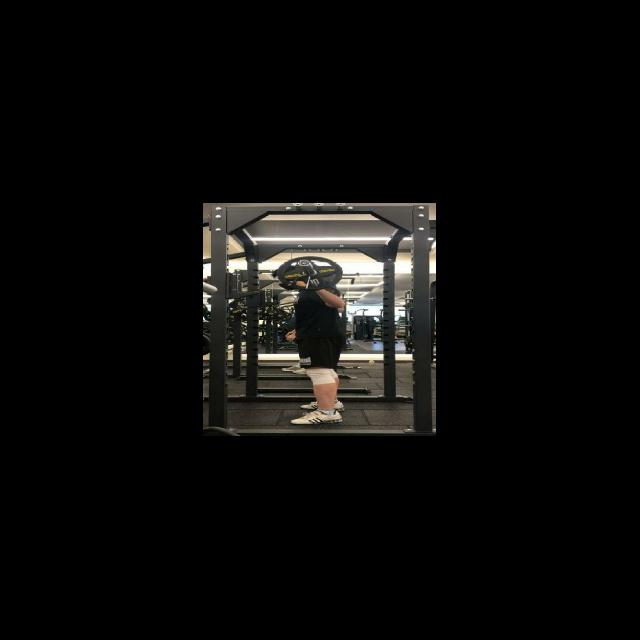barbell: (276, 253, 344, 292)
